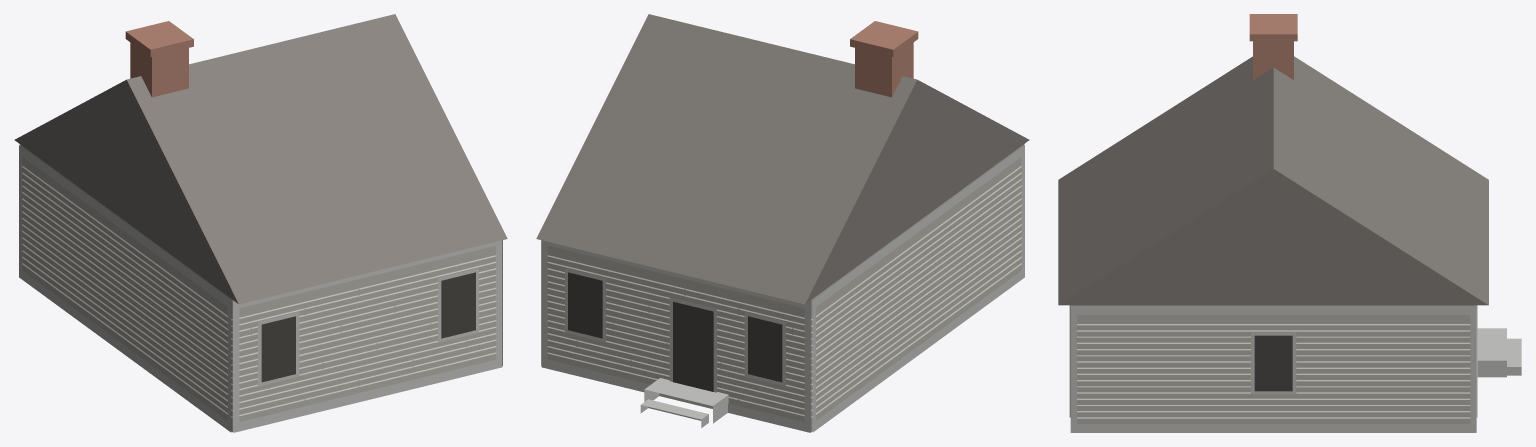
Rendered from recon_1835_south_d4_030__inferred_1835.glb.
The picture shows the model from 3 angles, left to right: view 1: azimuth 30°, elevation 25°; view 2: azimuth 150°, elevation 25°; view 3: azimuth 270°, elevation 25°; orthographic projection. The views are drawn at different scales.
Parts seen in each view (by area): view 1: recon_1835_south_d4_030__inferred_1835; view 2: recon_1835_south_d4_030__inferred_1835; view 3: recon_1835_south_d4_030__inferred_1835.
Part boxes in pixels (x1=…): recon_1835_south_d4_030__inferred_1835: x1=14, y1=14, x2=507, y2=432; recon_1835_south_d4_030__inferred_1835: x1=536, y1=14, x2=1029, y2=432; recon_1835_south_d4_030__inferred_1835: x1=1058, y1=14, x2=1521, y2=432.
Bounding box in the file's own units: 6.15 × 6.72 × 9.47.
